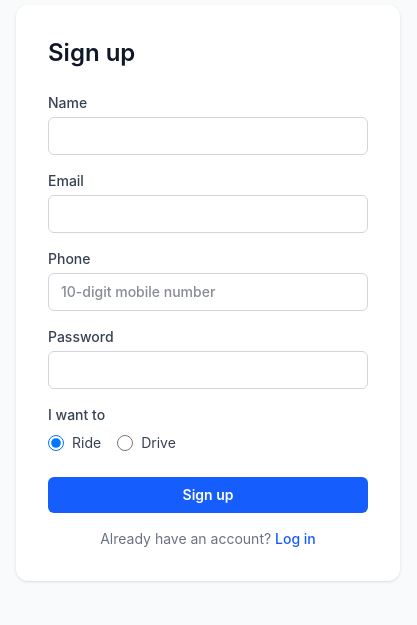
Test: SignupPage › shows the server's error message when signup fails
The image size is (417, 625).
Type "Anjali" into the field labelled "Name" at (208, 136), box [48, 117, 368, 155]
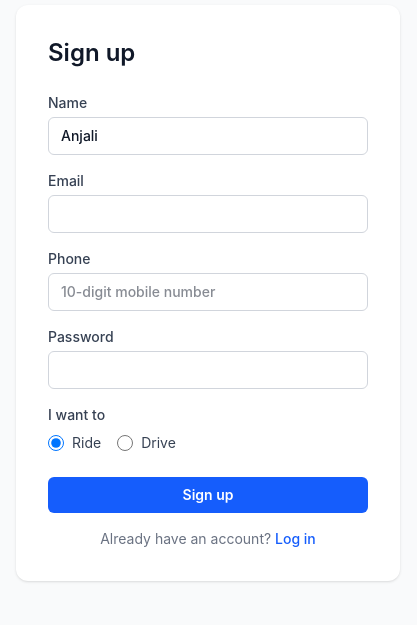
Type "anjali@example.com" into the field labelled "Email" at (208, 214), box [48, 195, 368, 233]
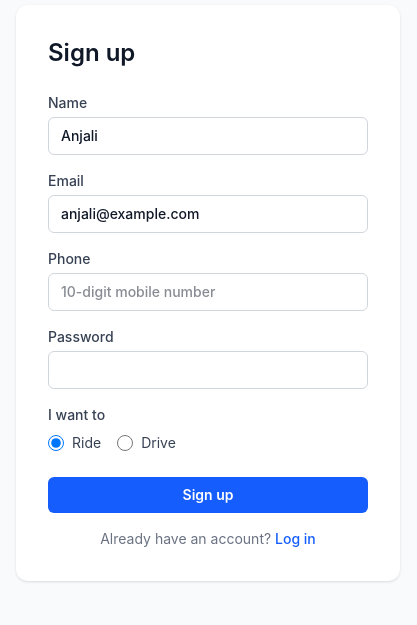
Type "9999999999" into the field labelled "Phone" at (208, 292), box [48, 273, 368, 311]
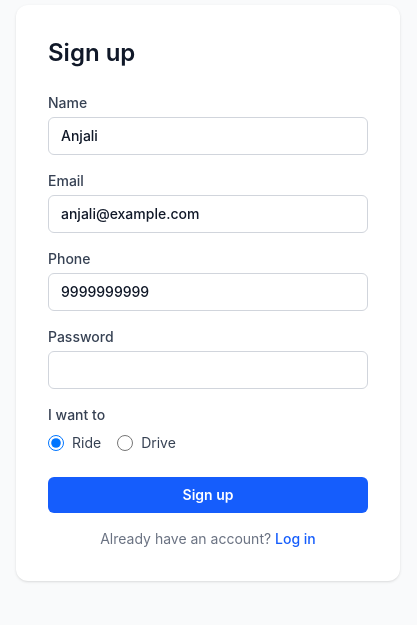
Type "correct-horse" into the password field labelled "Password" at (208, 370), box [48, 351, 368, 389]
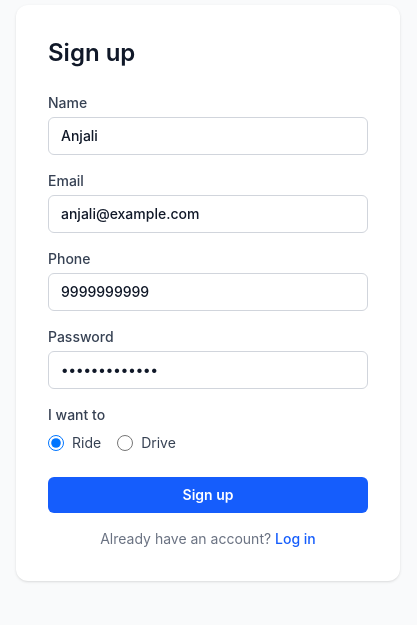
Click the button "Sign up" at (208, 495), box [48, 477, 368, 513]
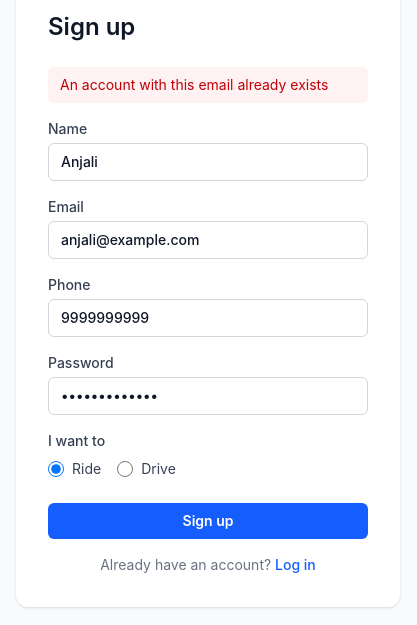
Check: the message reads "An account with this email already exists", box [60, 76, 328, 93]
